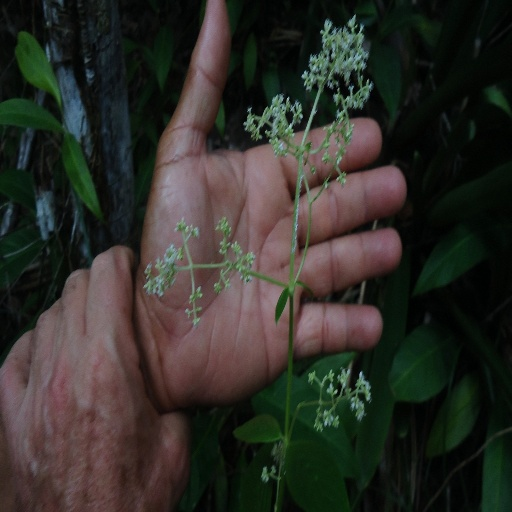hand: (138, 0, 407, 410), (0, 228, 195, 512)
